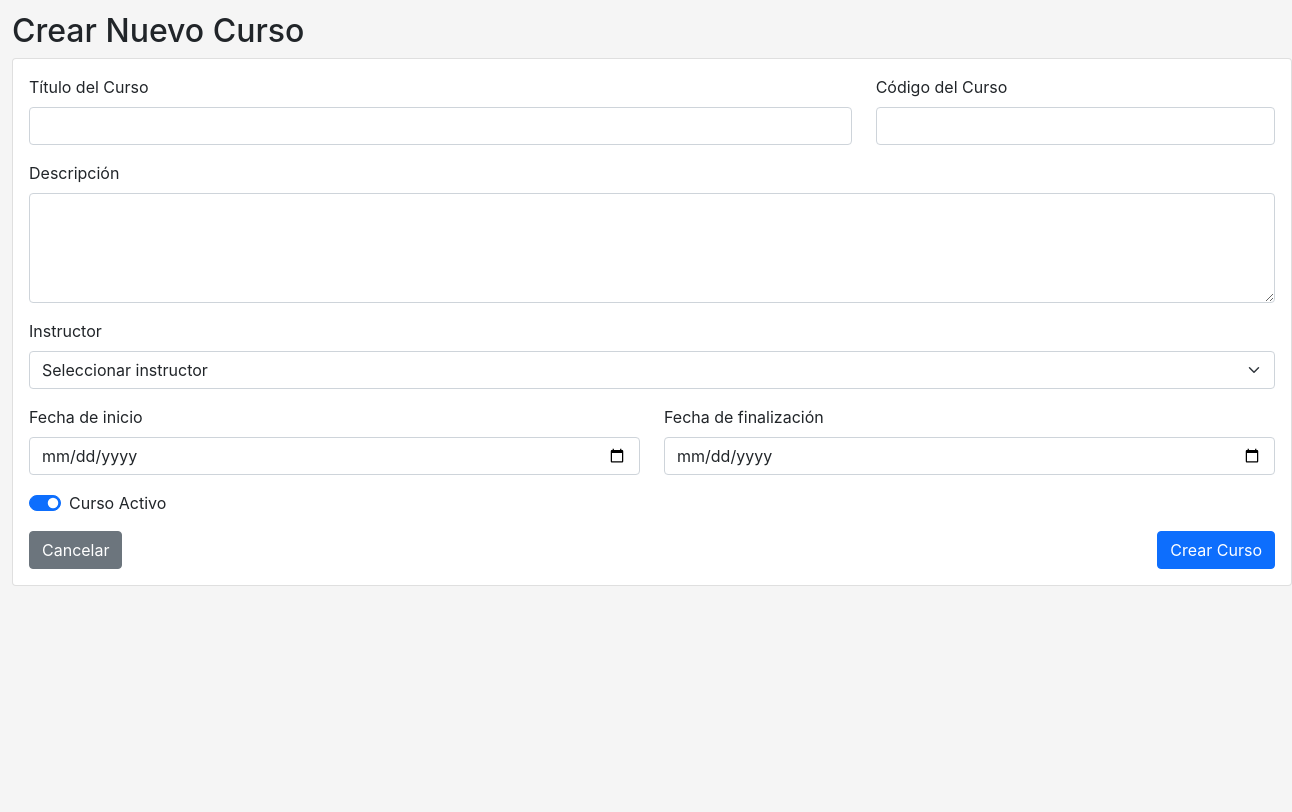
CourseForm Component › submits form with valid data successfully
# Fill in required fields using getByRole
Type "Curso de Prueba" into the field labelled "Título del Curso". click: (440, 126)
box: [29,107,852,145]
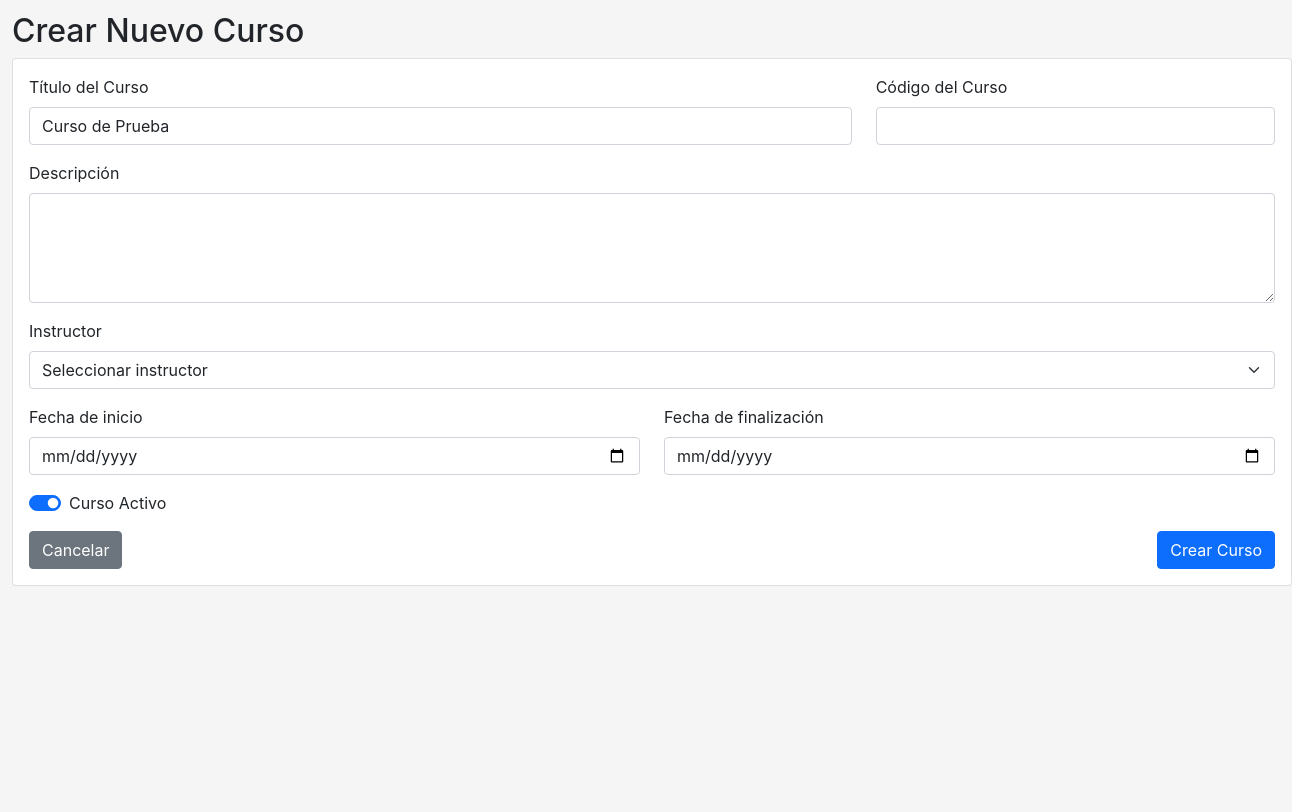
Type "TEST101" into the field labelled "Código del Curso". click: (1075, 126)
box: [876,107,1275,145]
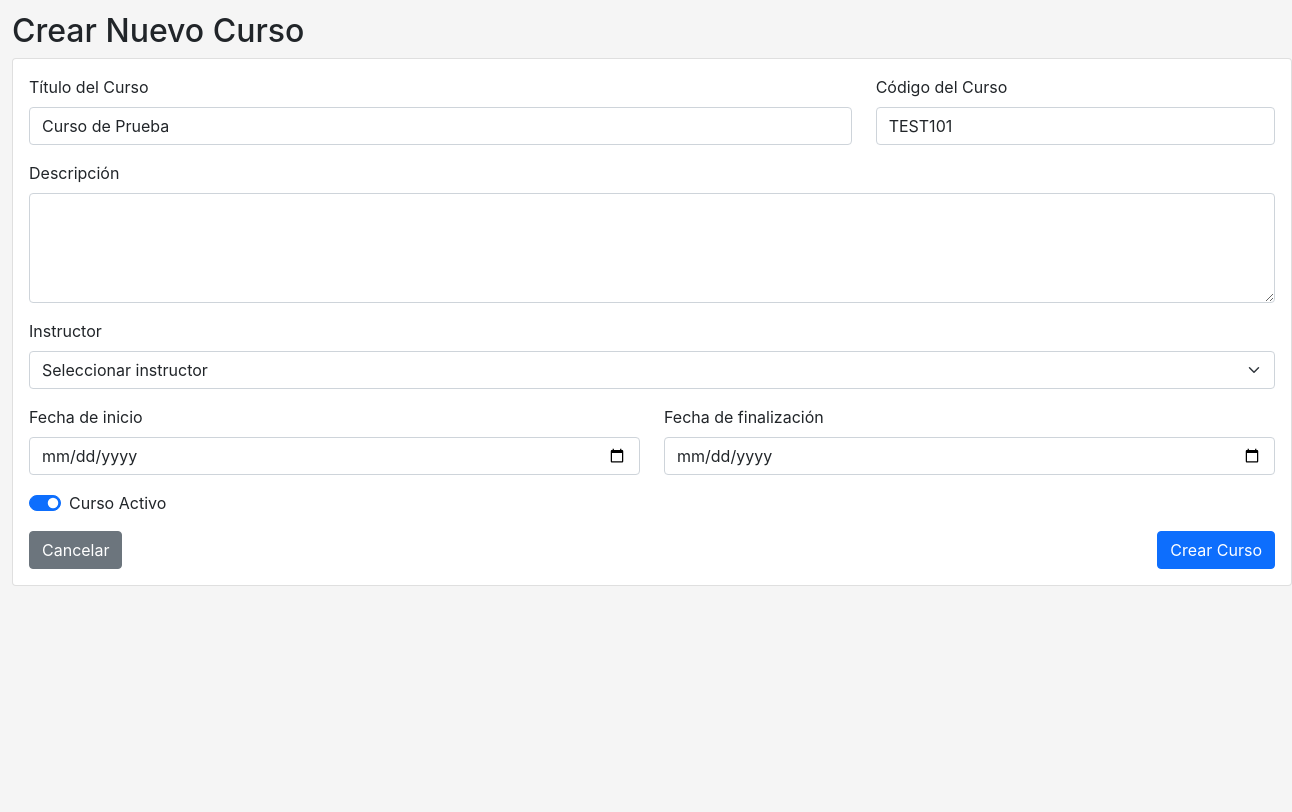
Type "Descripción del curso de prueba" into the text box labelled "Descripción". click: (652, 248)
box: [29,193,1275,303]
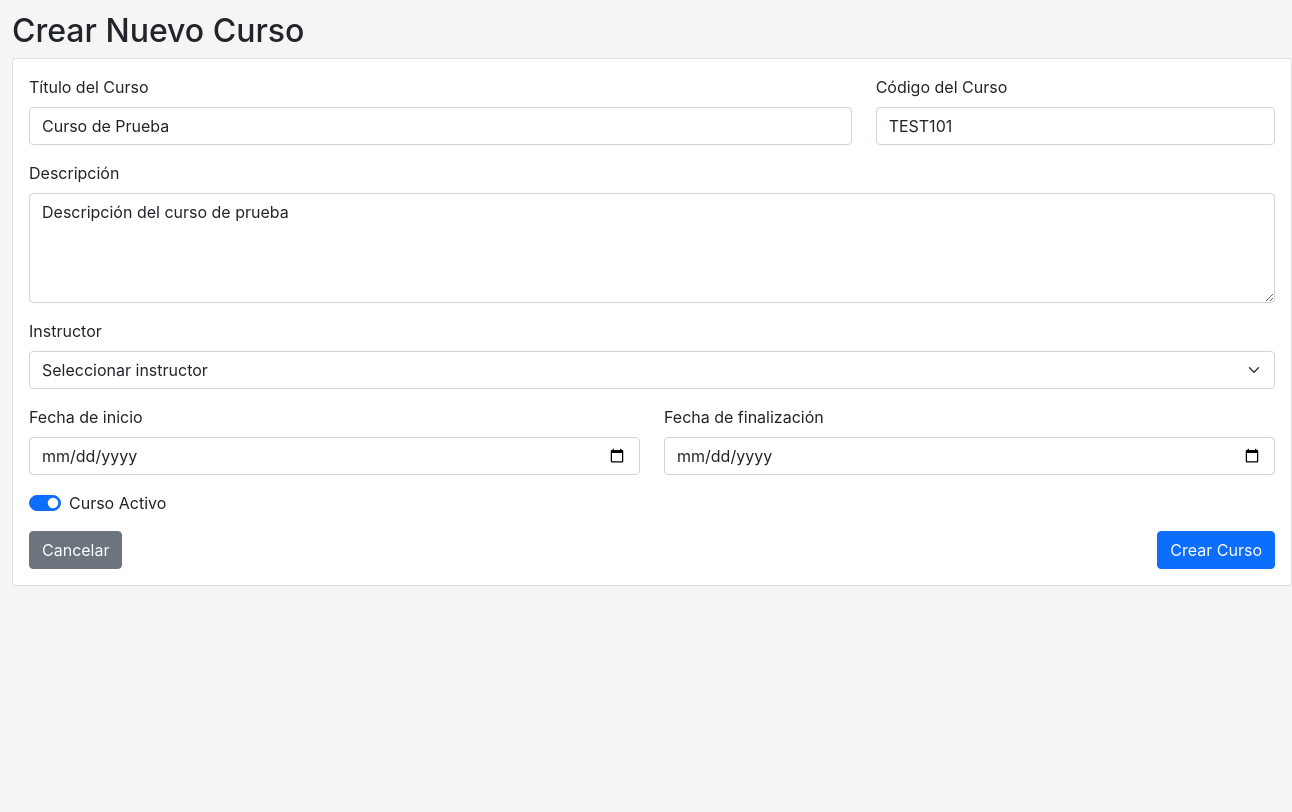
# Set instructor
Select "1" in the dropdown labelled "Instructor". click: (652, 370)
box: [29,351,1275,389]
# Submit the form
Click the button "Crear Curso". click: (1216, 550)
box: [1157,531,1275,569]
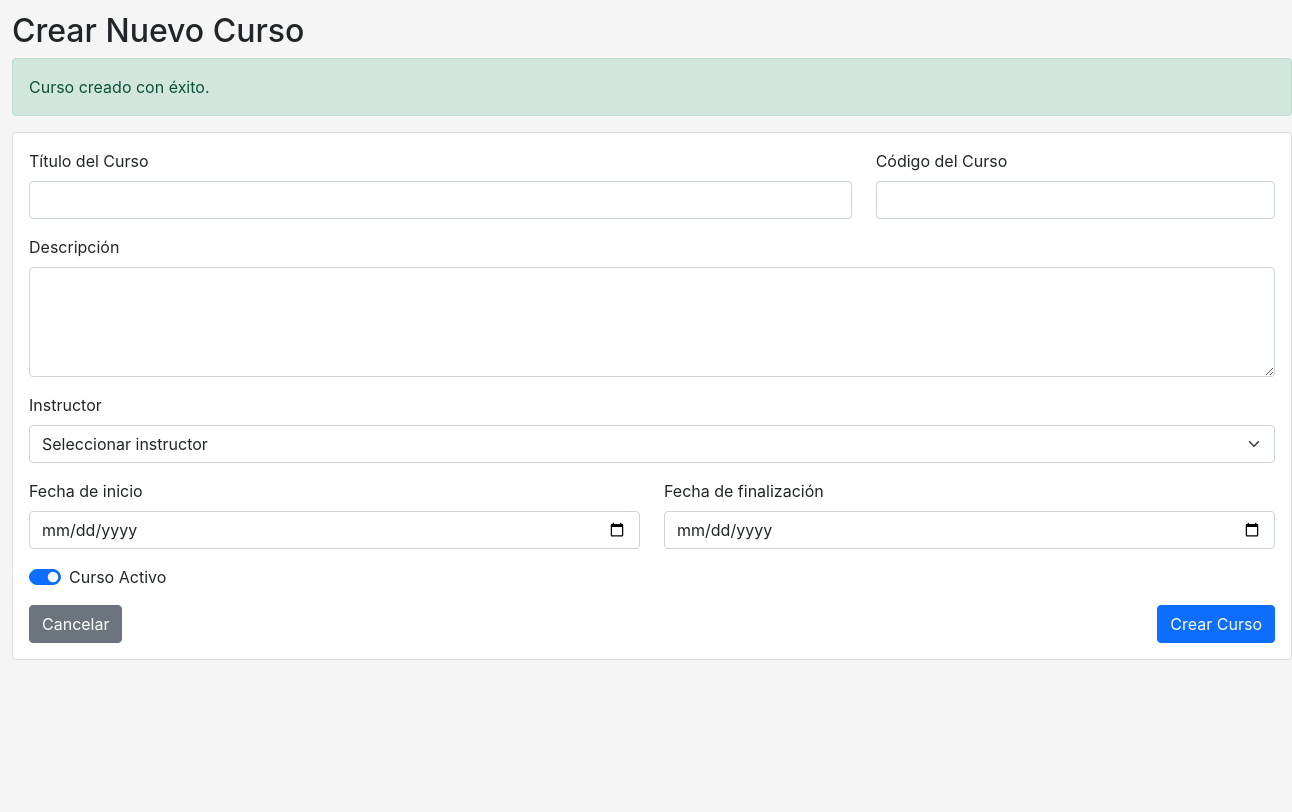
Check: the text "Curso creado con éxito." is shown, box [12,58,1291,116]
